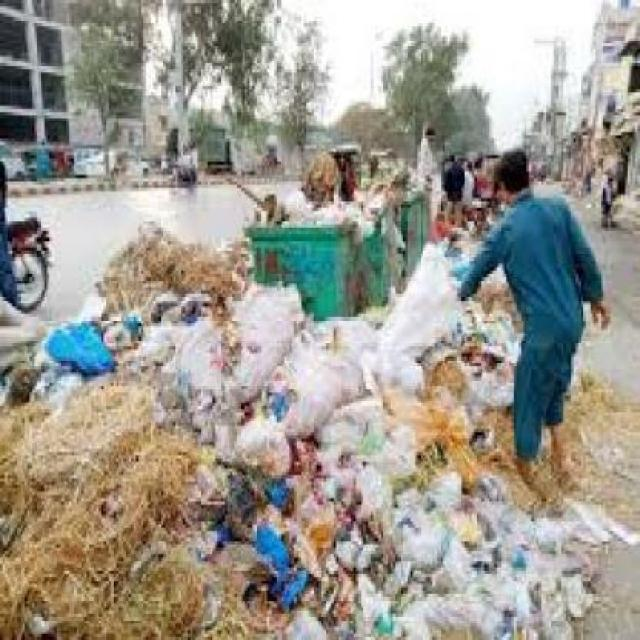garbage: (139, 221, 470, 636), (282, 392, 588, 636)
